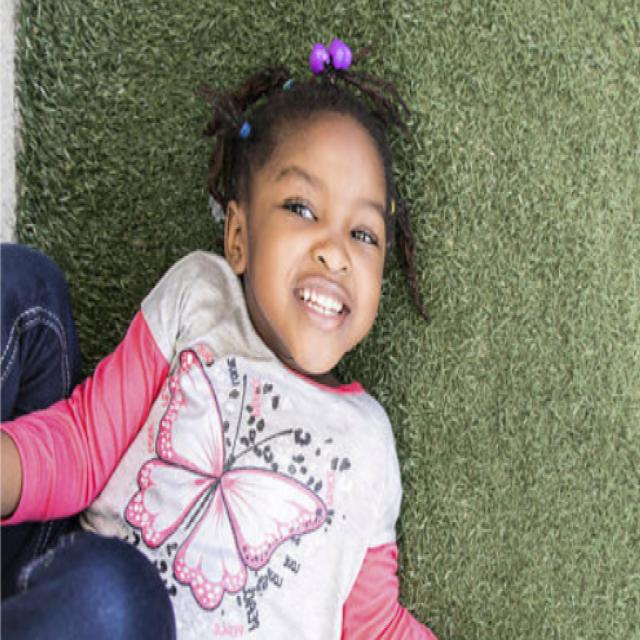child: (0, 59, 449, 640)
